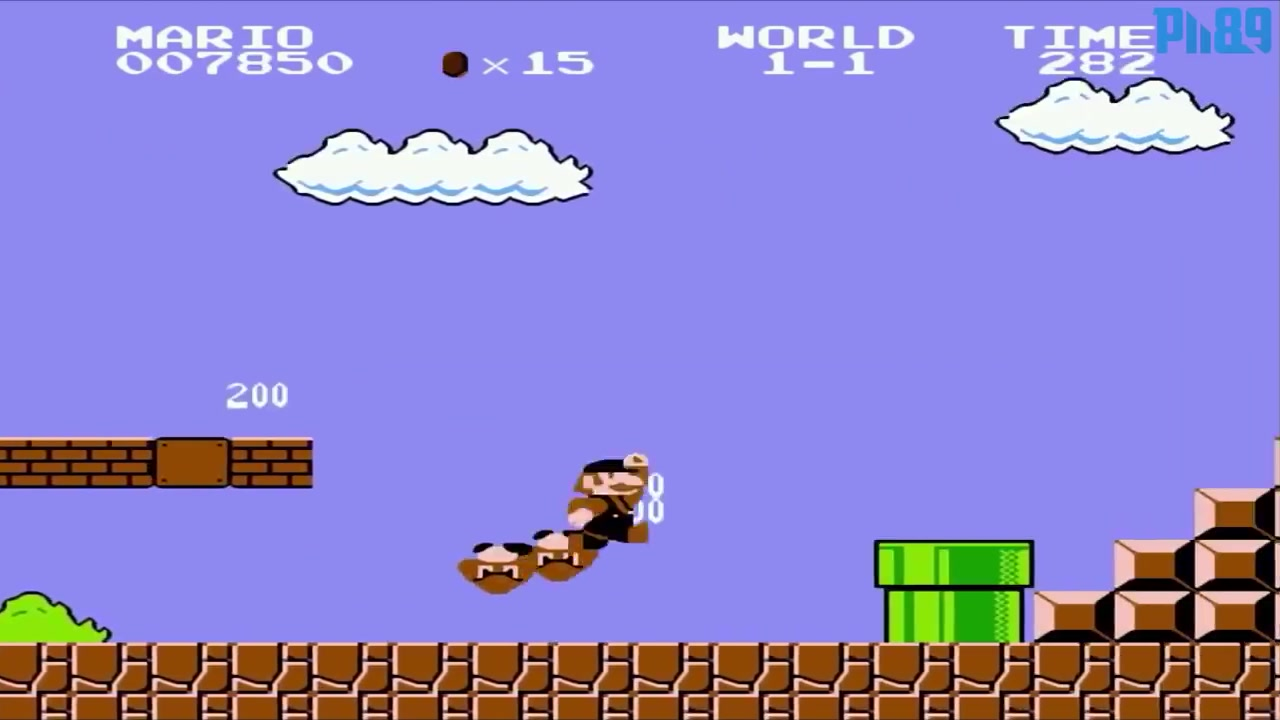mario: (547, 448, 670, 557)
